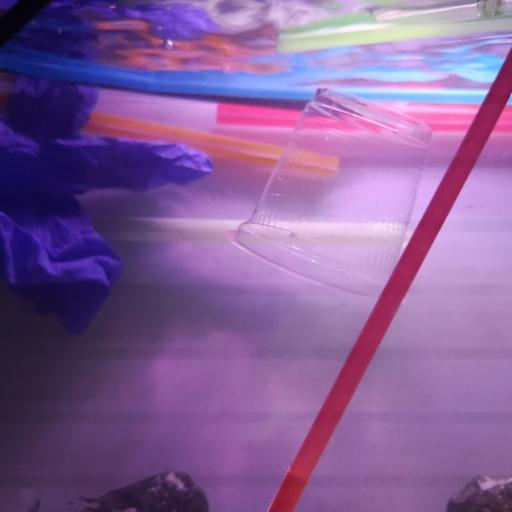glove: (0, 67, 214, 337)
plastic_cup: (224, 84, 434, 310)
plastic_straw: (269, 47, 512, 512), (0, 54, 512, 106), (82, 110, 340, 179), (215, 100, 512, 134), (280, 18, 512, 54), (1, 0, 53, 50)
